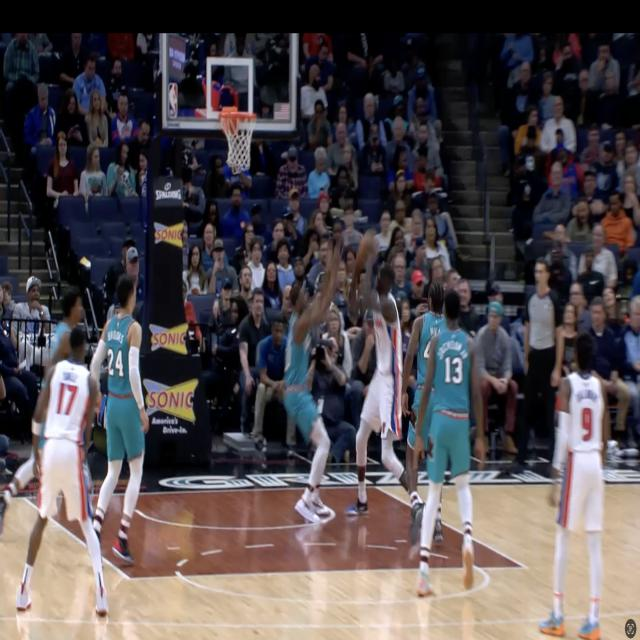no foul: (31, 278, 158, 603), (278, 240, 407, 537), (411, 284, 488, 595)
